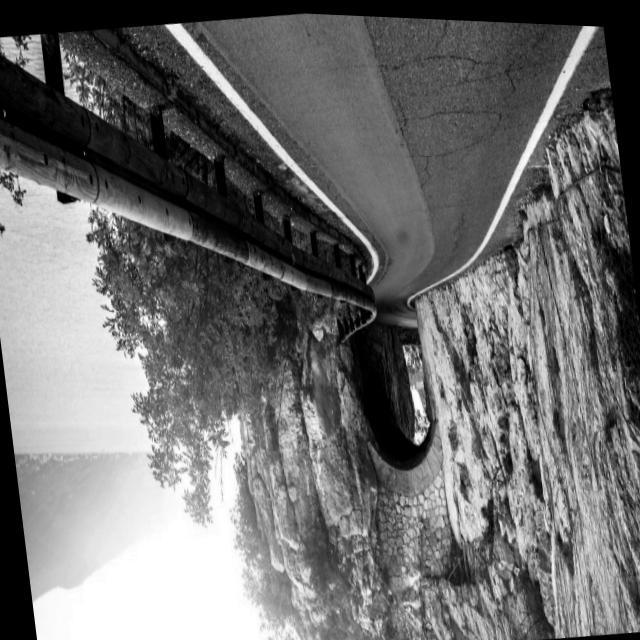cleat: (226, 10, 640, 392)
